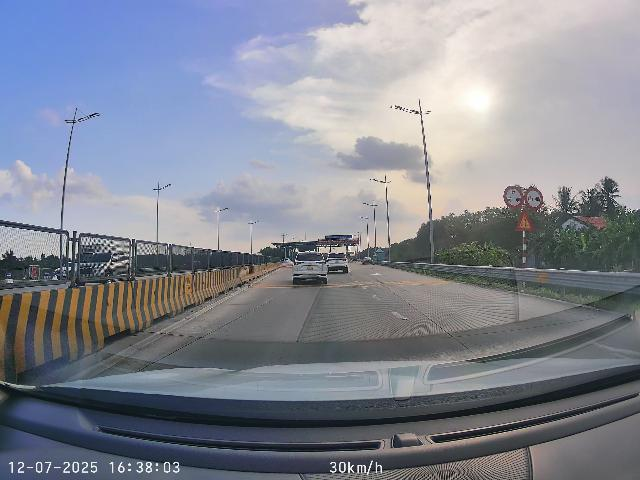125-cam-vuot: (524, 187, 543, 210)
245-di-cham: (516, 210, 535, 231)
